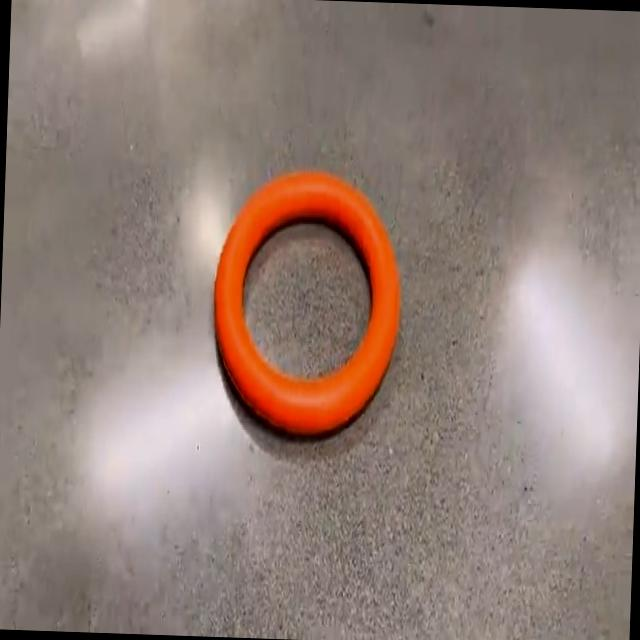note: (214, 172, 399, 432)
